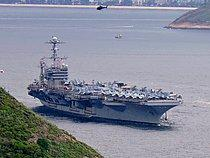MIL_Ship: (29, 32, 184, 126)
